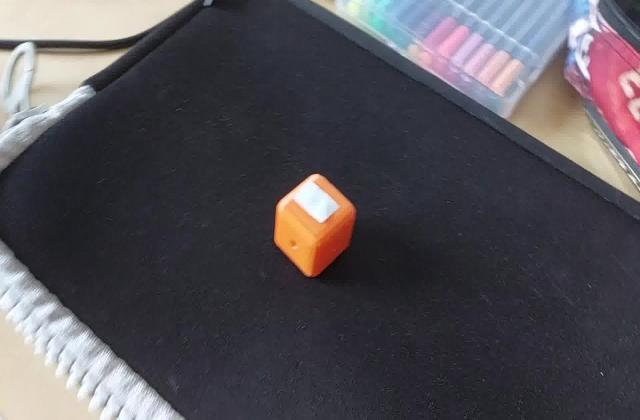sticker: (270, 171, 358, 281)
white: (298, 191, 342, 224)
